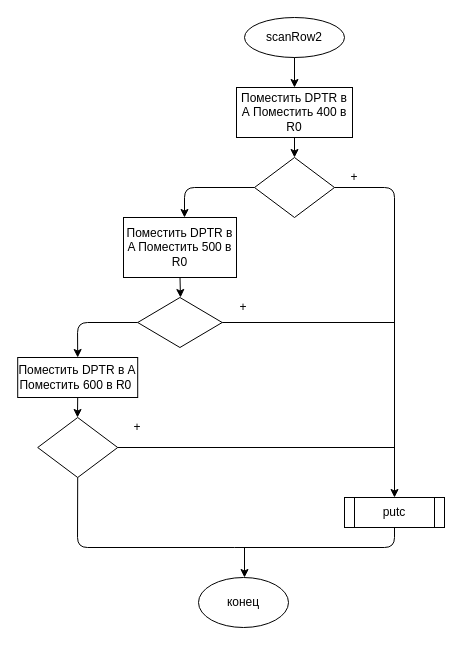
This 462x645 diagram has some shape labels left out. Each missing label, with the box of its shape:
P0.4==0: (37, 416, 118, 478)
P0.5==0: (137, 296, 222, 348)
P0.6==0: (254, 156, 334, 218)
